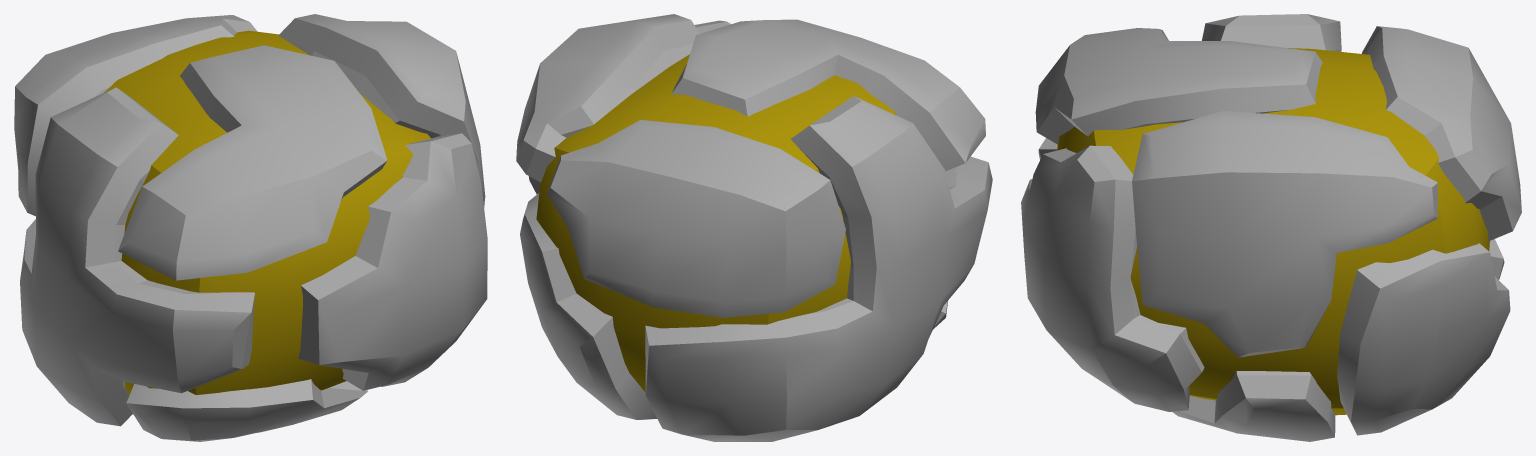
File: RockParts.fbx
3 renders of one model, left to right at view 1: azimuth 30°, elevation 25°; view 2: azimuth 150°, elevation 25°; view 3: azimuth 270°, elevation 25°, orthographic. The views are drawn at different scales.
Visible parts, largest first — view 1: Meteor_Rock3, Meteor_Rock4, Meteor_Rock2, Meteor_LavaCube, Meteor_Rock5, Meteor_Rock6, Meteor_Rock1; view 2: Meteor_Rock3, Meteor_Rock6, Meteor_Rock4, Meteor_LavaCube, Meteor_Rock5, Meteor_Rock7; view 3: Meteor_Rock5, Meteor_Rock2, Meteor_Rock7, Meteor_LavaCube, Meteor_Rock4, Meteor_Rock6, Meteor_Rock1, Meteor_Rock3.
Part boxes in pixels (x1,y1,x2,y2): Meteor_Rock3: [20, 87, 254, 426]; Meteor_Rock4: [118, 45, 387, 280]; Meteor_Rock2: [298, 133, 487, 390]; Meteor_LavaCube: [104, 30, 430, 394]; Meteor_Rock5: [278, 14, 485, 207]; Meteor_Rock6: [14, 15, 257, 216]; Meteor_Rock1: [126, 379, 367, 441]; Meteor_Rock3: [645, 96, 992, 441]; Meteor_Rock6: [547, 120, 845, 317]; Meteor_Rock4: [671, 19, 985, 171]; Meteor_LavaCube: [536, 54, 896, 392]; Meteor_Rock5: [516, 14, 699, 194]; Meteor_Rock7: [520, 193, 657, 419]; Meteor_Rock5: [1132, 111, 1437, 357]; Meteor_Rock2: [1021, 145, 1204, 411]; Meteor_Rock7: [1337, 243, 1510, 435]; Meteor_LavaCube: [1057, 48, 1489, 415]; Meteor_Rock4: [1035, 28, 1322, 144]; Meteor_Rock6: [1361, 26, 1521, 241]; Meteor_Rock1: [1172, 371, 1335, 441]; Meteor_Rock3: [1038, 14, 1504, 279].
Bounding box in the file's own units: 167 × 141 × 175.
